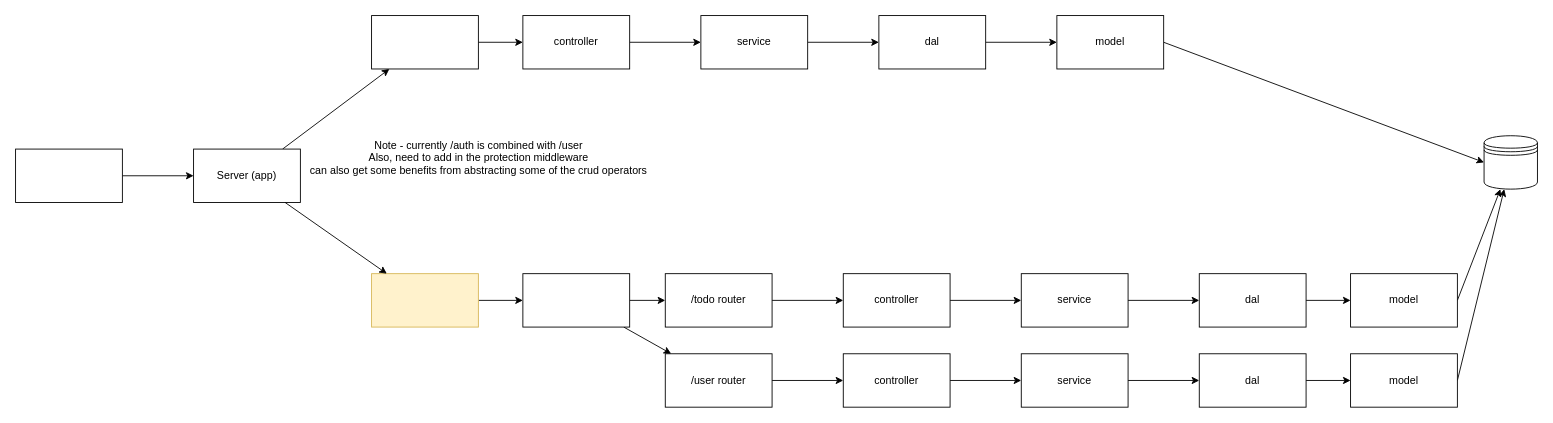
This 1553x423 diagram has some shape labels left out. The box of each missing label's shape, as (x1, y1, x2, y2) in pixels:
/api: (522, 273, 630, 327)
/auth: (371, 15, 478, 69)
db: (1483, 135, 1537, 189)
protected (middleware): (371, 273, 478, 327)
Request: (15, 148, 122, 202)
